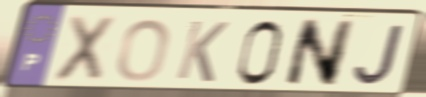0: (234, 18, 286, 87)
J: (352, 23, 407, 87)
K: (173, 18, 232, 85)
N: (281, 18, 358, 89)
O: (114, 17, 173, 84)
X: (49, 13, 121, 86)
